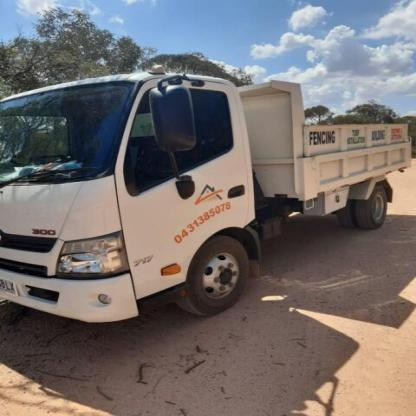dump_truck: (4, 60, 415, 333)
